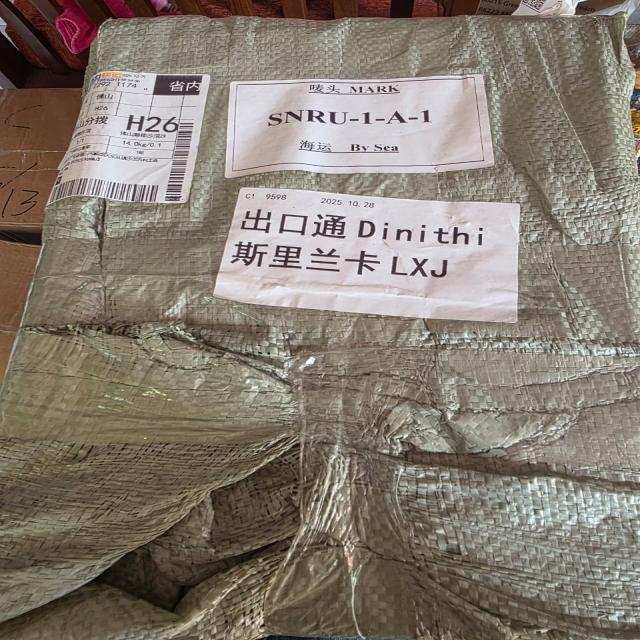export_mark_label: (220, 180, 524, 309), (52, 64, 215, 213), (223, 81, 495, 167)
